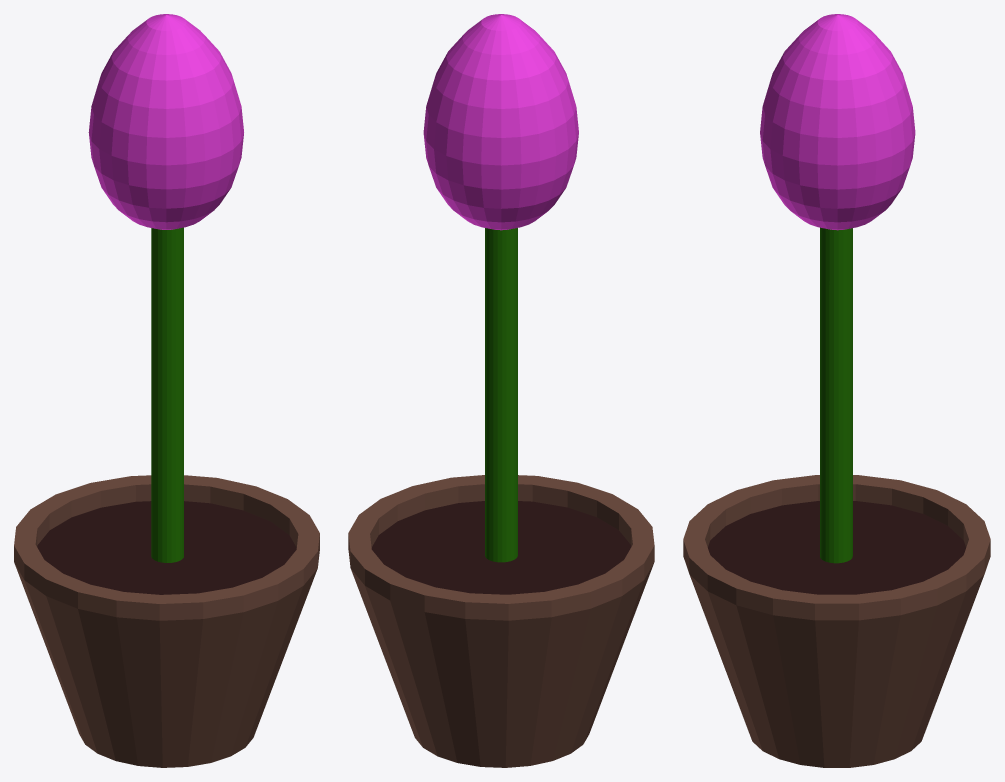
The model's file is flower.fbx.
The picture shows the model from 3 angles, left to right: view 1: azimuth 30°, elevation 25°; view 2: azimuth 150°, elevation 25°; view 3: azimuth 270°, elevation 25°; orthographic projection.
Parts seen in each view (by area): view 1: 柱体, 球体; view 2: 柱体, 球体; view 3: 柱体, 球体.
Boxes of the visible parts, bbox=[...] form: 柱体: bbox=[14, 475, 319, 767]; 球体: bbox=[88, 14, 243, 562]; 柱体: bbox=[348, 475, 654, 767]; 球体: bbox=[423, 14, 578, 562]; 柱体: bbox=[683, 475, 990, 767]; 球体: bbox=[760, 14, 915, 563].
Bounding box in the file's own units: 120 × 313 × 122.
